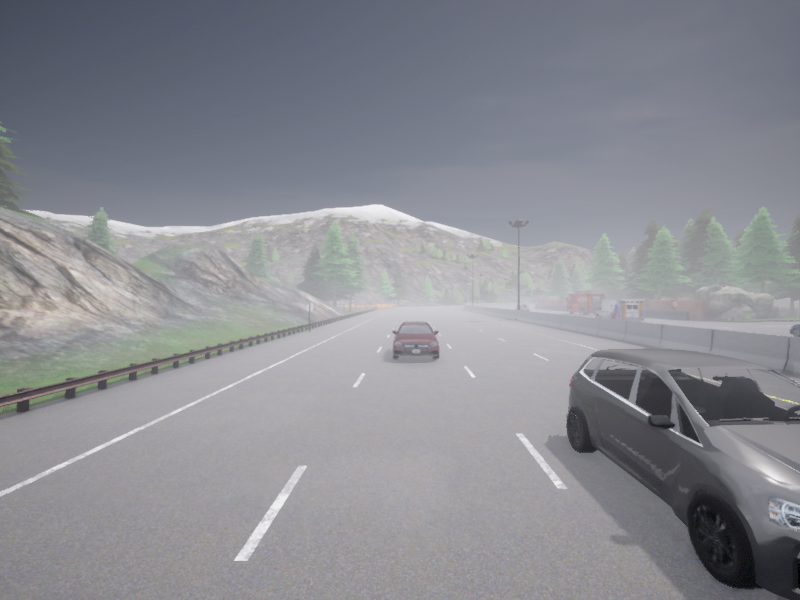vehicle: (567, 348, 799, 599), (392, 321, 438, 359), (595, 300, 645, 320), (566, 291, 605, 314), (790, 324, 799, 336), (515, 304, 528, 310)
